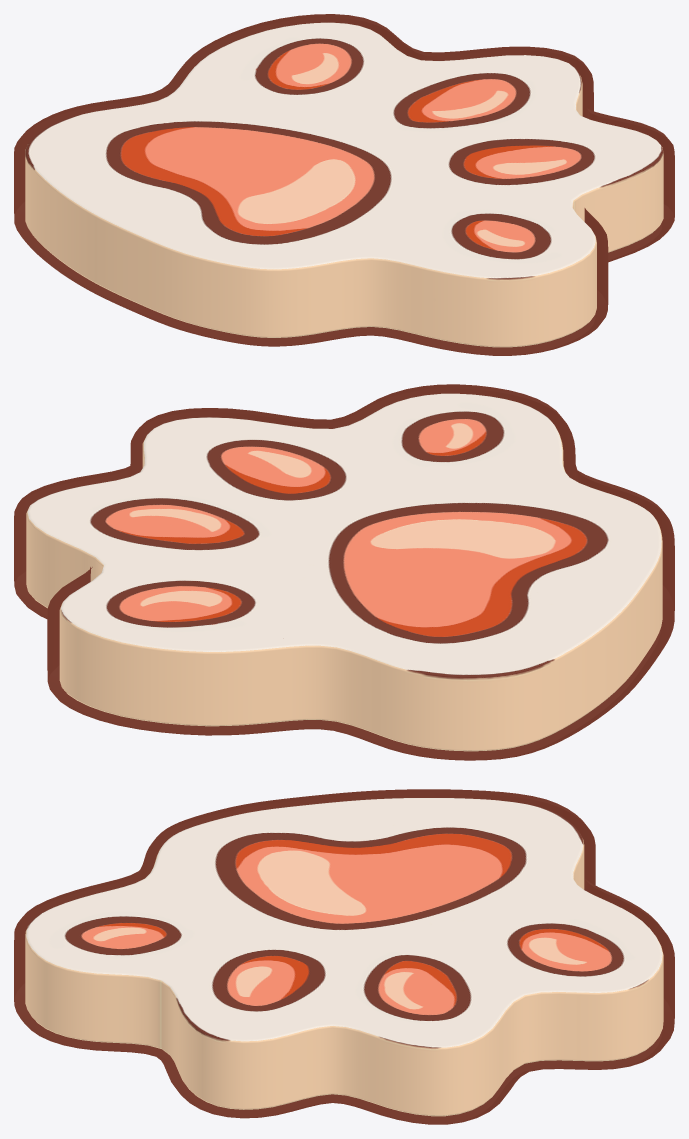
File: mark.glb
3 views of the same model, one above another, from view 1: azimuth 30°, elevation 25°; view 2: azimuth 150°, elevation 25°; view 3: azimuth 270°, elevation 25° (orthographic). The views are drawn at different scales.
Parts seen in each view (by area): view 1: Paw; view 2: Paw; view 3: Paw.
Boxes of the visible parts, x1,y1,x2,y2 form: Paw: (14, 14, 674, 355); Paw: (14, 384, 674, 760); Paw: (14, 789, 674, 1124).
Size of the model in its own units: 0.2131 by 0.0323 by 0.2287.
Materials: 2 (1 with a texture image).
